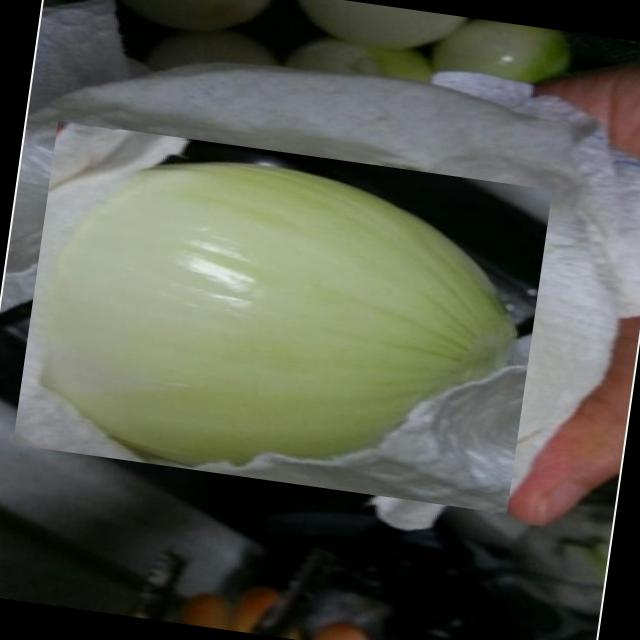Onion: (12, 120, 553, 514)
